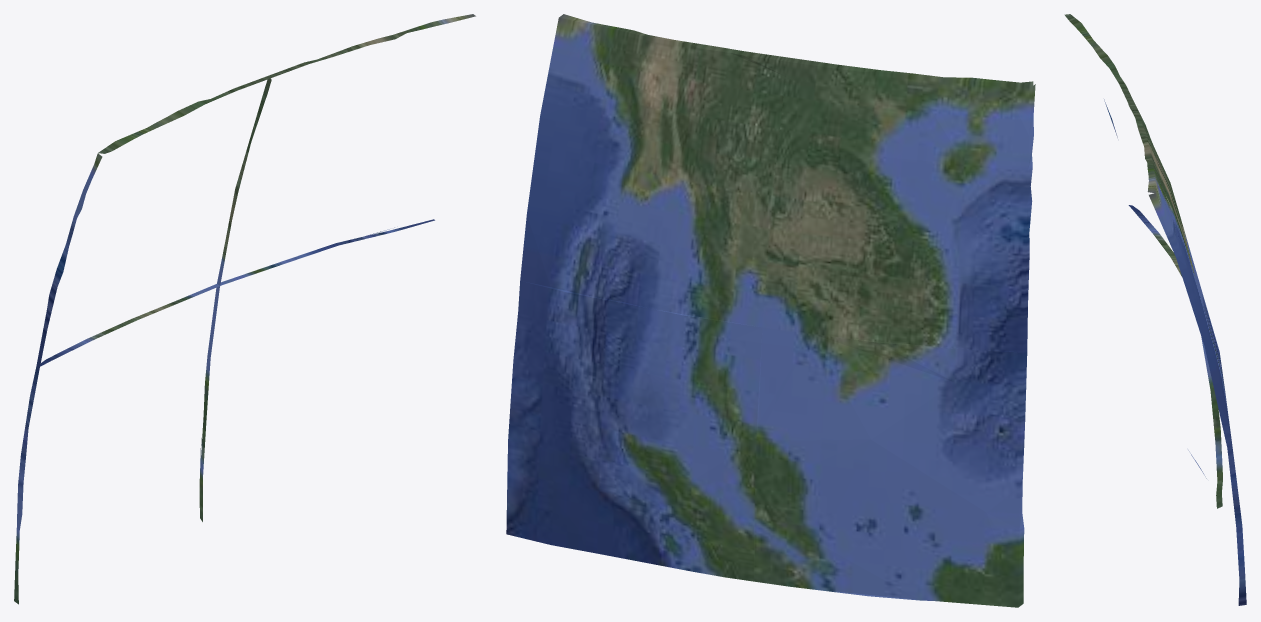
3 renders of one model, left to right at view 1: azimuth 30°, elevation 25°; view 2: azimuth 150°, elevation 25°; view 3: azimuth 270°, elevation 25°, orthographic. The views are drawn at different scales.
Bounding box in the file's own units: 2468358 × 2458682 × 975700.
Materials: 1 (1 with a texture image).
